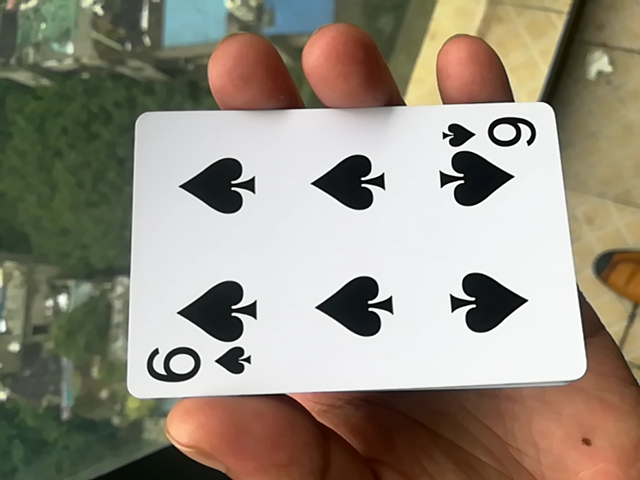ht 6: (116, 108, 581, 410)
